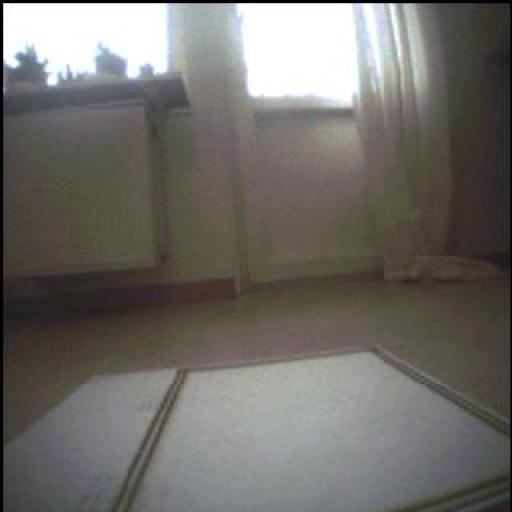Pad: (5, 350, 512, 512)
